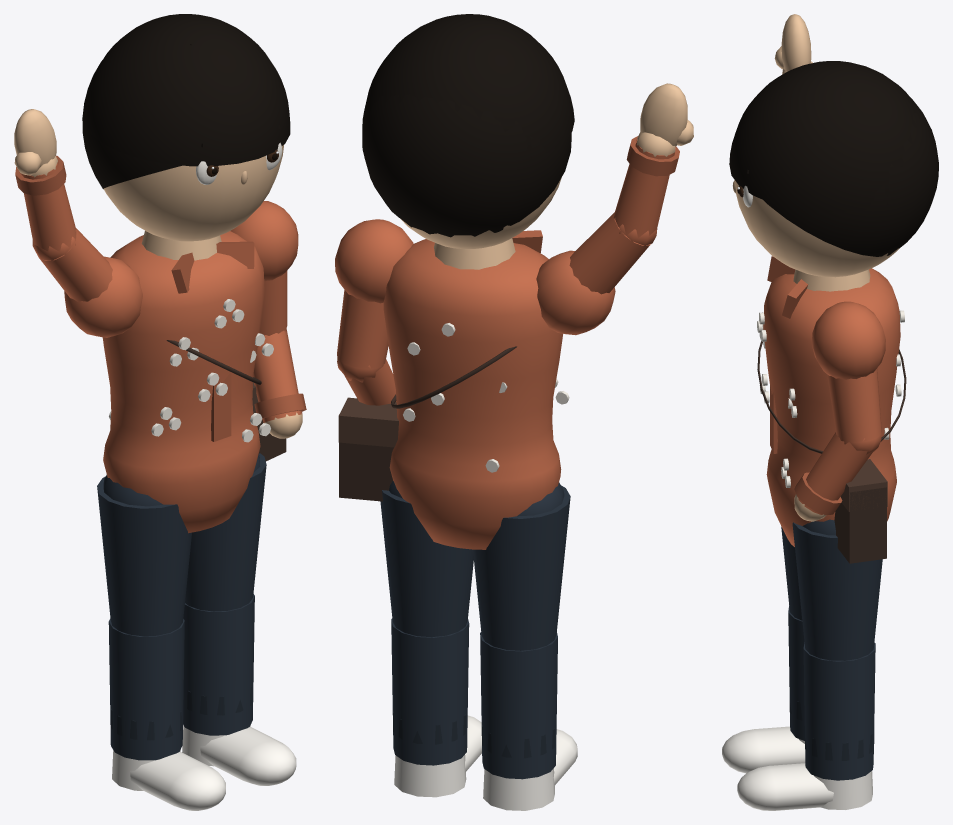
Rendered from 18-marco.glb.
3 views of the same model, side by side, from view 1: azimuth 30°, elevation 25°; view 2: azimuth 150°, elevation 25°; view 3: azimuth 270°, elevation 25° (orthographic). The views are drawn at different scales.
Visible parts, largest first — view 1: Marco, skull, elbow (×2), armR, armL; view 2: Marco, skull, elbow (×2), armL, armR; view 3: Marco, skull, armL, elbow (×2).
Boxes of the visible parts, x1,y1,x2,y2 form: Marco: (97, 230, 296, 810); skull: (82, 14, 290, 241); elbow (×2): (14, 109, 306, 438); armR: (37, 228, 142, 337); armL: (230, 201, 298, 335); Marco: (338, 230, 577, 810); skull: (362, 14, 574, 249); elbow (×2): (337, 83, 693, 405); armL: (335, 219, 413, 368); armR: (536, 212, 650, 335); Marco: (722, 256, 906, 810); skull: (729, 61, 938, 277); armL: (812, 301, 885, 442); elbow (×2): (774, 14, 881, 521).
Size of the model in its own units: 0.4365 by 1.01 by 0.2757.
